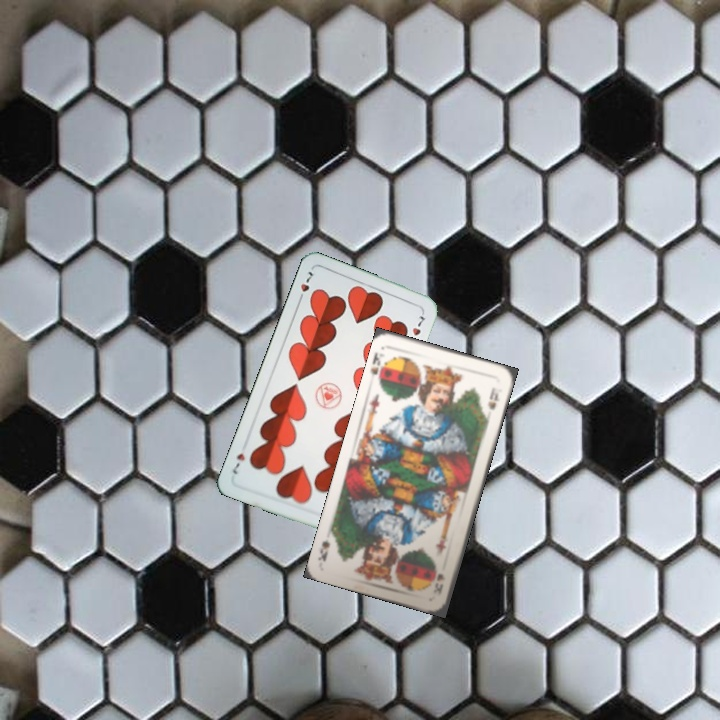H7: (295, 267, 316, 305)
SK: (367, 348, 383, 378), (432, 569, 447, 597)
